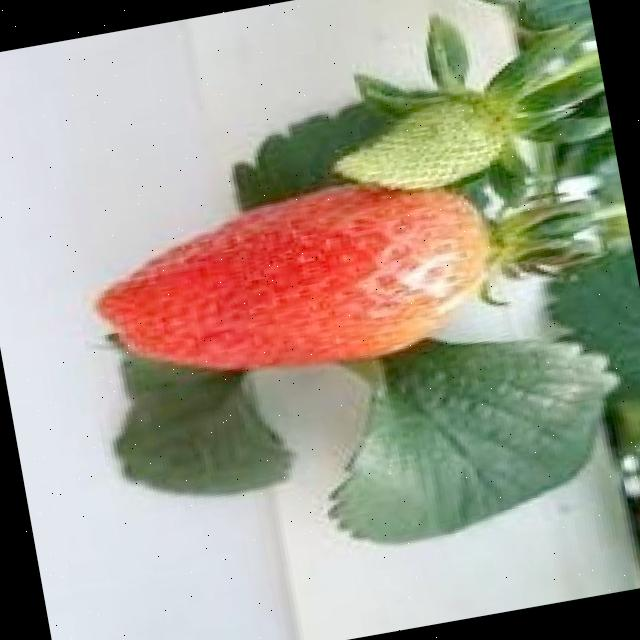strawberry: (80, 161, 510, 404), (324, 92, 516, 206)
